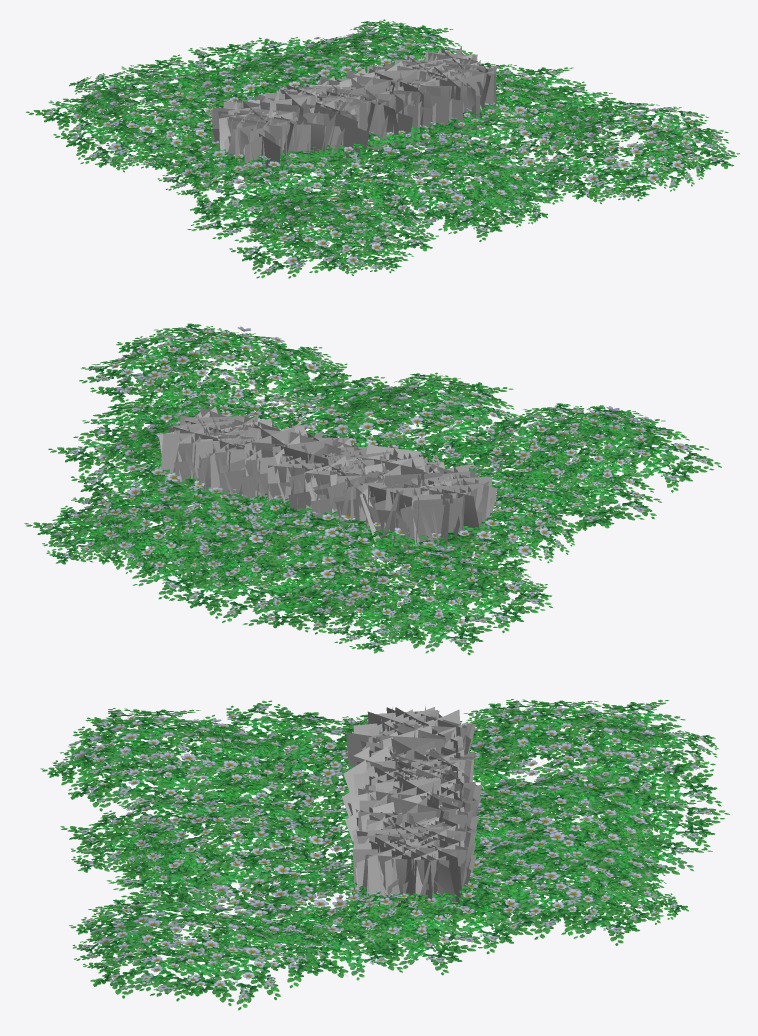
The model's file is alpha2.dae.
3 renders of one model, top to bottom at view 1: azimuth 30°, elevation 25°; view 2: azimuth 150°, elevation 25°; view 3: azimuth 270°, elevation 25°, orthographic. The views are drawn at different scales.
Visible parts, largest first — view 1: set_bg01_flower02-geom-P0, set_bg05_green11-geom-P0, set_bg01_flower02-geom-P1, set_bg05_green11-geom-P1, set_bg05_green12-geom-P0, set_bg05_green12-geom-P1, set_bg01_flower3-geom-P1; view 2: set_bg01_flower02-geom-P0, set_bg05_green11-geom-P0, set_bg01_flower02-geom-P1, set_bg05_green12-geom-P0, set_bg05_green11-geom-P1, set_bg01_flower3-geom-P1; view 3: set_bg01_flower02-geom-P0, set_bg01_flower02-geom-P1, set_bg05_green11-geom-P0, set_bg05_green11-geom-P1, set_bg05_green12-geom-P0, set_bg01_flower3-geom-P1, set_bg05_green12-geom-P1.
Boxes of the visible parts, x1,y1,x2,y2 form: set_bg01_flower02-geom-P0: (26, 19, 739, 278); set_bg05_green11-geom-P0: (211, 46, 497, 187); set_bg01_flower02-geom-P1: (68, 28, 702, 264); set_bg05_green11-geom-P1: (212, 52, 486, 179); set_bg05_green12-geom-P0: (211, 50, 493, 168); set_bg05_green12-geom-P1: (212, 66, 469, 169); set_bg01_flower3-geom-P1: (134, 34, 690, 245); set_bg01_flower02-geom-P0: (24, 323, 721, 655); set_bg05_green11-geom-P0: (159, 406, 497, 564); set_bg01_flower02-geom-P1: (74, 326, 687, 629); set_bg05_green12-geom-P0: (168, 407, 496, 552); set_bg05_green11-geom-P1: (174, 414, 492, 557); set_bg01_flower3-geom-P1: (76, 331, 619, 610); set_bg01_flower02-geom-P0: (40, 699, 729, 1010); set_bg01_flower02-geom-P1: (68, 707, 676, 987); set_bg05_green11-geom-P0: (346, 706, 482, 917); set_bg05_green11-geom-P1: (342, 709, 476, 925); set_bg05_green12-geom-P0: (345, 707, 481, 910); set_bg01_flower3-geom-P1: (84, 724, 670, 960); set_bg05_green12-geom-P1: (342, 754, 459, 890).
Bounding box in the file's own units: 9.55 × 1.18 × 9.02.
